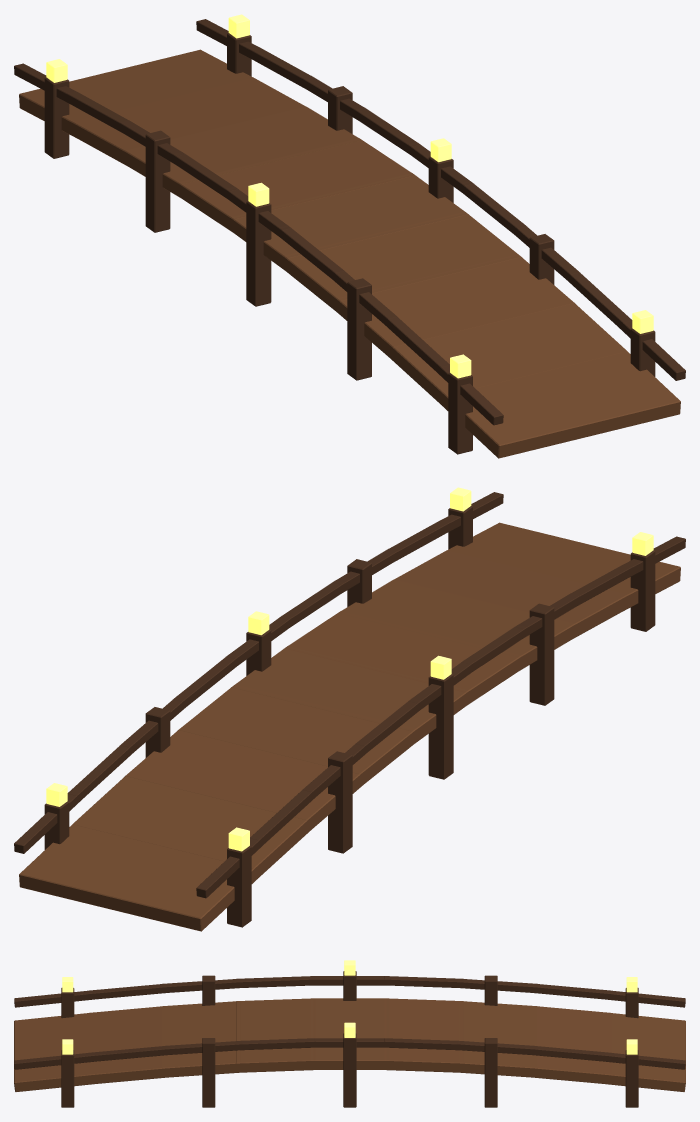
File: EM_WoodFootbridge_Small.glb
3 renders of one model, top to bottom at view 1: azimuth 30°, elevation 25°; view 2: azimuth 150°, elevation 25°; view 3: azimuth 270°, elevation 25°, orthographic. The views are drawn at different scales.
Parts seen in each view (by area): view 1: EM_WoodFootbridge_Small__Timber, EM_WoodFootbridge_Small__TimberDark, EM_WoodFootbridge_Small__WarmGlow; view 2: EM_WoodFootbridge_Small__Timber, EM_WoodFootbridge_Small__TimberDark, EM_WoodFootbridge_Small__WarmGlow; view 3: EM_WoodFootbridge_Small__Timber, EM_WoodFootbridge_Small__TimberDark, EM_WoodFootbridge_Small__WarmGlow.
Part boxes in pixels (x1,y1,x2,y2): EM_WoodFootbridge_Small__Timber: (19, 49, 680, 458); EM_WoodFootbridge_Small__TimberDark: (14, 19, 685, 454); EM_WoodFootbridge_Small__WarmGlow: (46, 14, 653, 378); EM_WoodFootbridge_Small__Timber: (19, 522, 680, 931); EM_WoodFootbridge_Small__TimberDark: (14, 492, 685, 927); EM_WoodFootbridge_Small__WarmGlow: (46, 487, 653, 851); EM_WoodFootbridge_Small__Timber: (14, 998, 685, 1091); EM_WoodFootbridge_Small__TimberDark: (14, 971, 685, 1107); EM_WoodFootbridge_Small__WarmGlow: (62, 960, 637, 1054).
Size of the model in its own units: 15.9 by 8.8 by 66.66.
